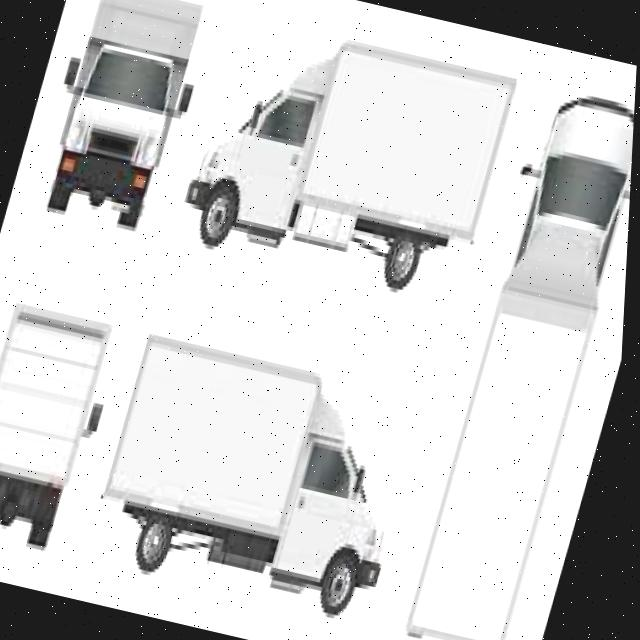truck: (406, 85, 637, 640), (88, 326, 439, 626), (173, 12, 525, 304), (37, 0, 206, 235), (0, 297, 117, 553)
